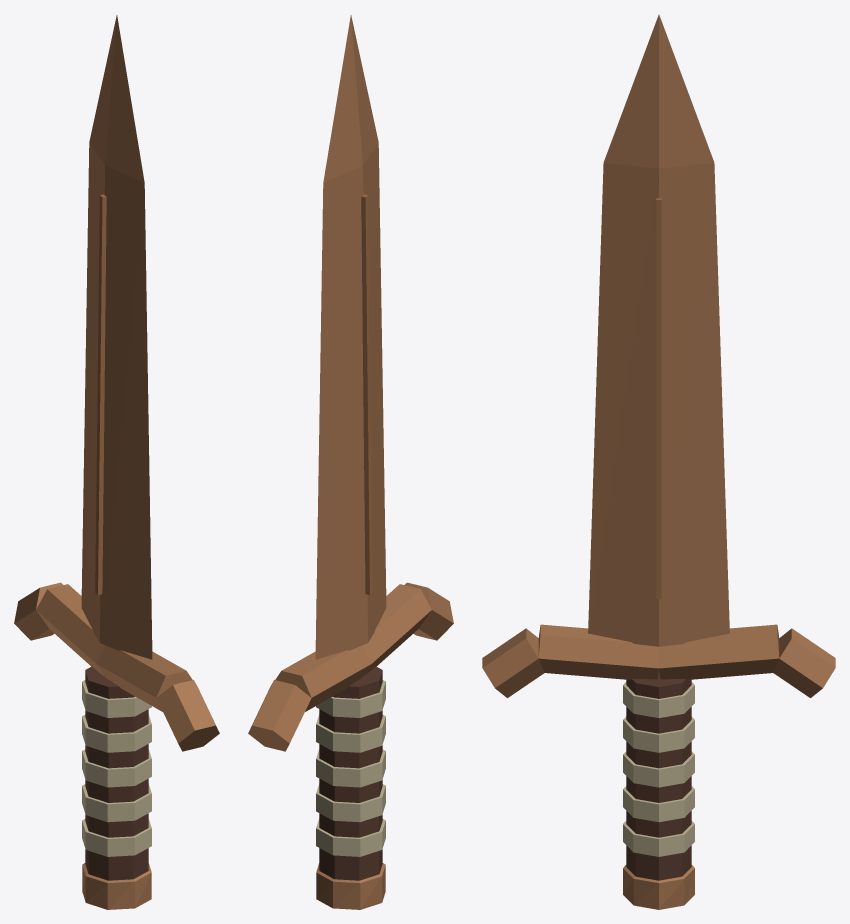
File: sword_copper.glb
3 renders of one model, left to right at view 1: azimuth 30°, elevation 25°; view 2: azimuth 150°, elevation 25°; view 3: azimuth 270°, elevation 25°, orthographic.
Parts seen in each view (by area): view 1: geometry; view 2: geometry; view 3: geometry.
Boxes of the visible parts, x1,y1,x2,y2 form: geometry: [14, 15, 219, 909]; geometry: [248, 15, 453, 909]; geometry: [482, 14, 835, 909].
Size of the model in its own units: 0.066 by 0.902 by 0.3229.
